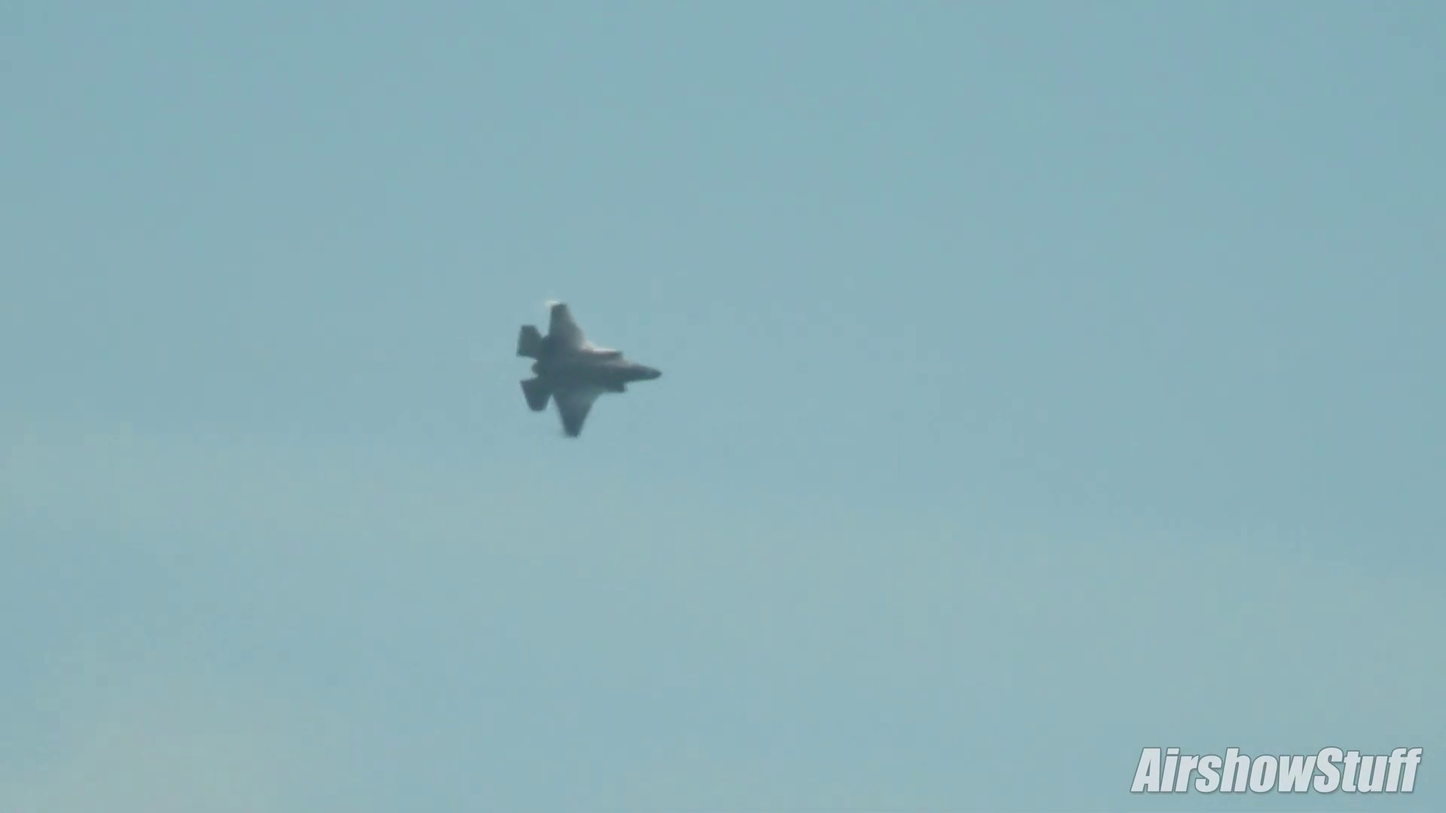F35: (513, 300, 665, 442)
